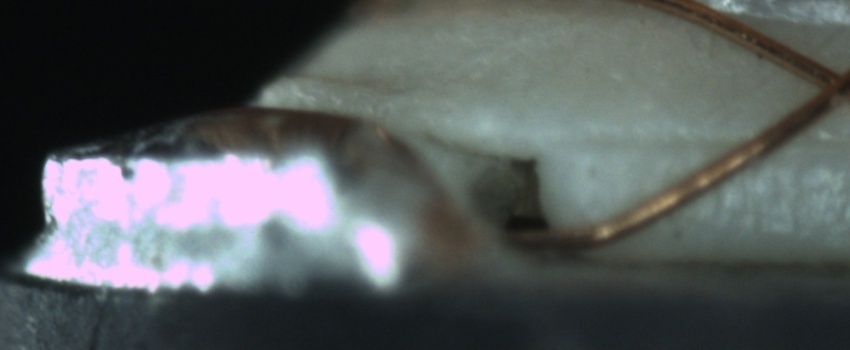CL: (800, 53, 850, 115)
DL: (565, 109, 847, 178)
